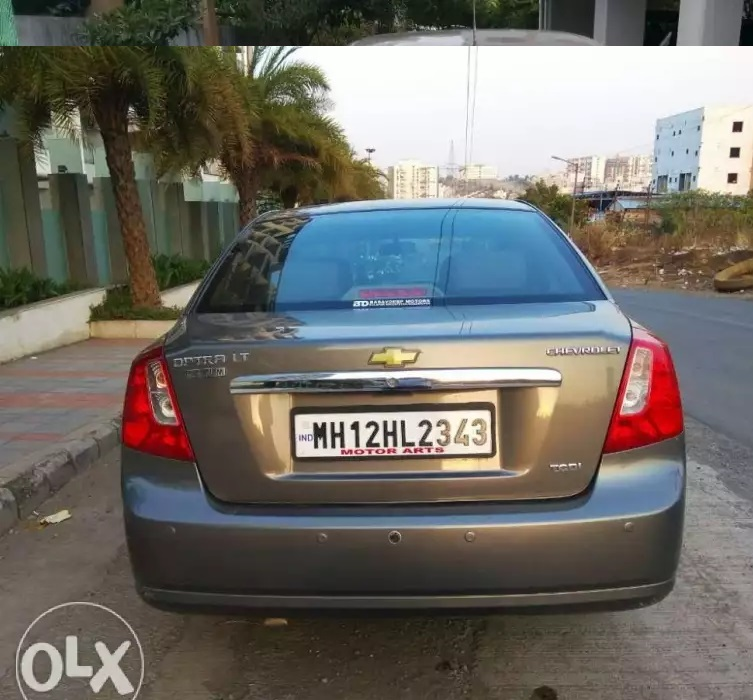licenseplate: (288, 404, 503, 464)
